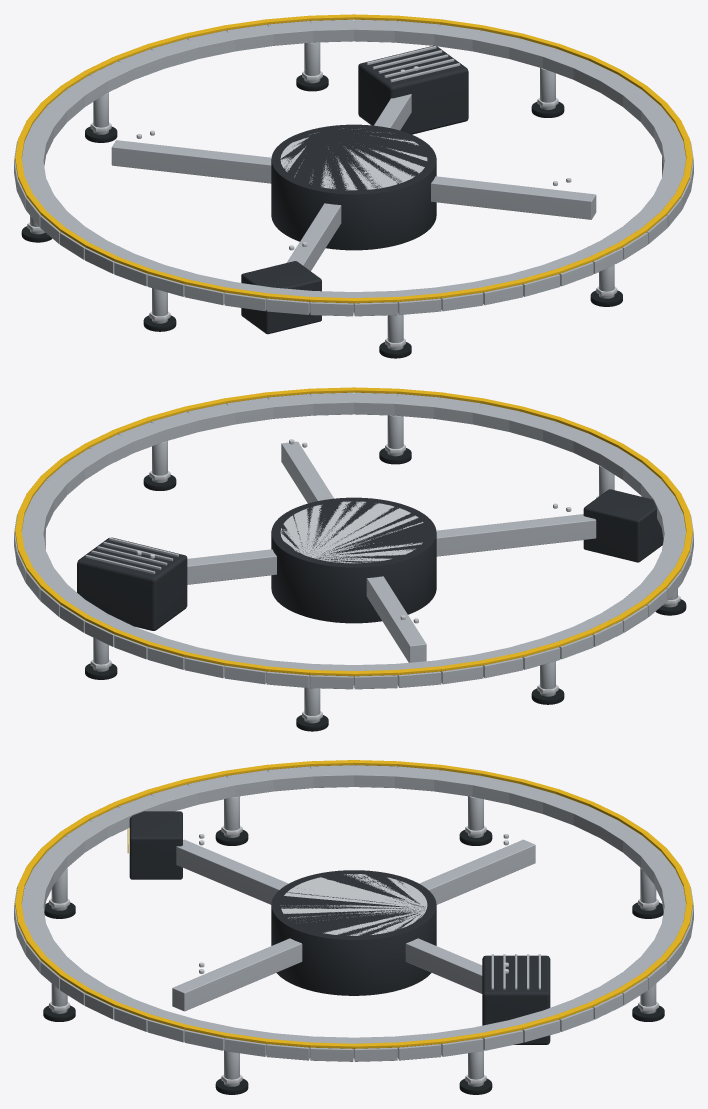
File: SM_Conveyor_TurntableBase.fbx
3 views of the same model, one above another, from view 1: azimuth 30°, elevation 25°; view 2: azimuth 150°, elevation 25°; view 3: azimuth 270°, elevation 25° (orthographic).
Parts seen in each view (by area): view 1: SM_Conveyor_TurntableBase; view 2: SM_Conveyor_TurntableBase; view 3: SM_Conveyor_TurntableBase.
Part boxes in pixels (bbox=[...]): SM_Conveyor_TurntableBase: bbox=[14, 14, 693, 358]; SM_Conveyor_TurntableBase: bbox=[14, 387, 693, 731]; SM_Conveyor_TurntableBase: bbox=[14, 760, 693, 1094].
Size of what is drawn, in the model's own units: 2.3 by 2.3 by 0.23.
